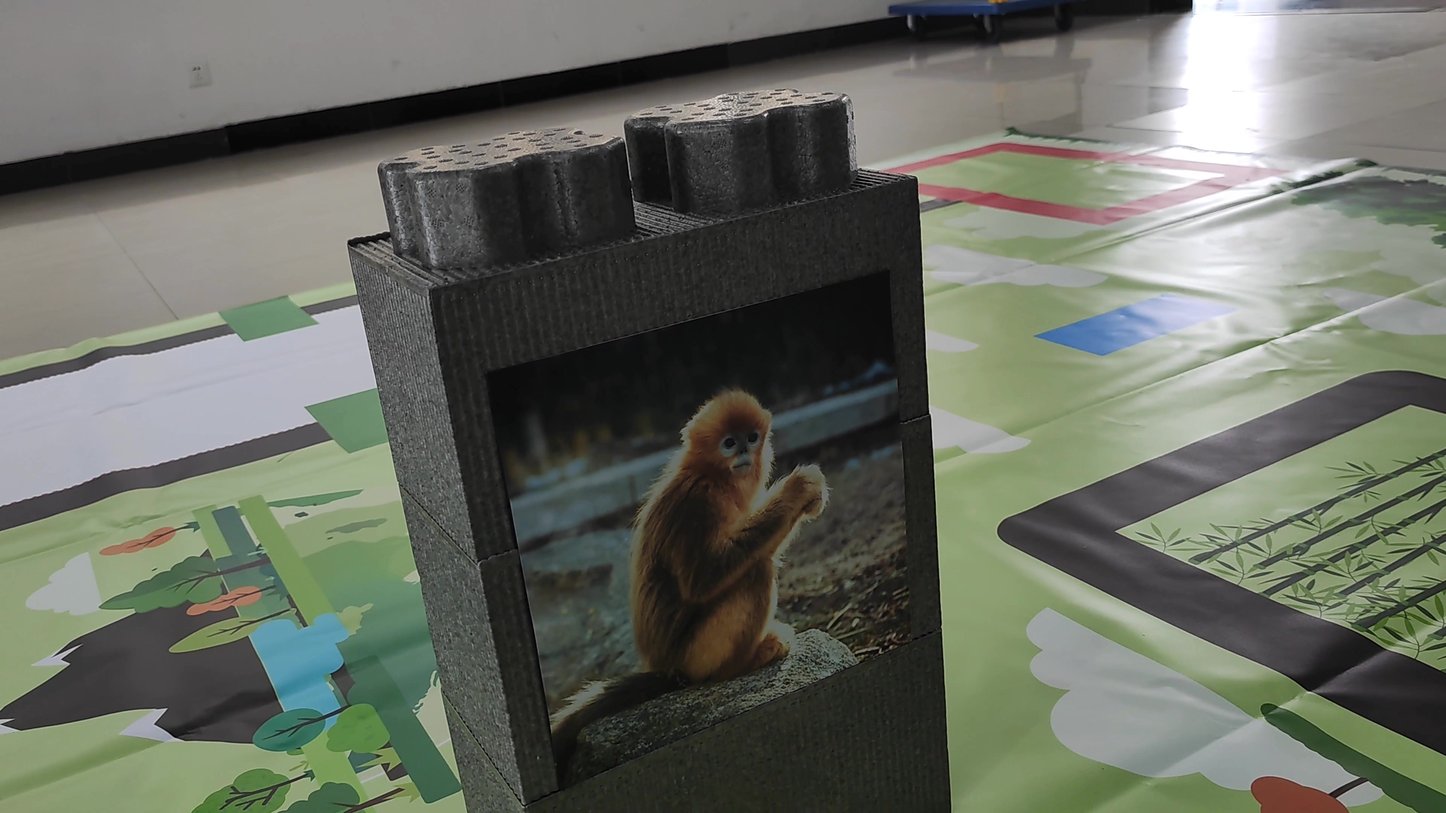monkey: (534, 369, 860, 751)
